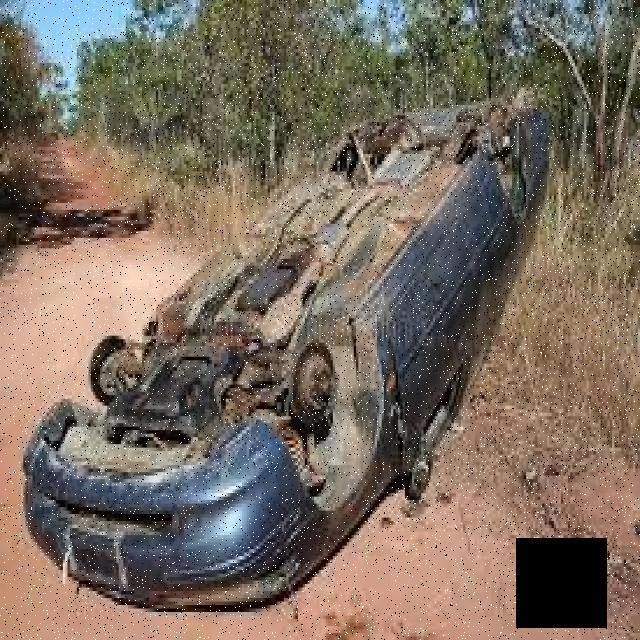severe: (18, 90, 556, 616)
